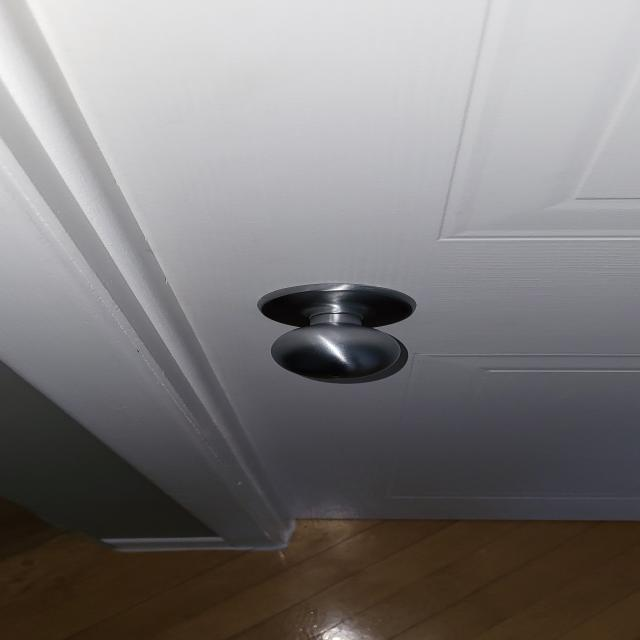door-knob: (260, 284, 417, 379)
